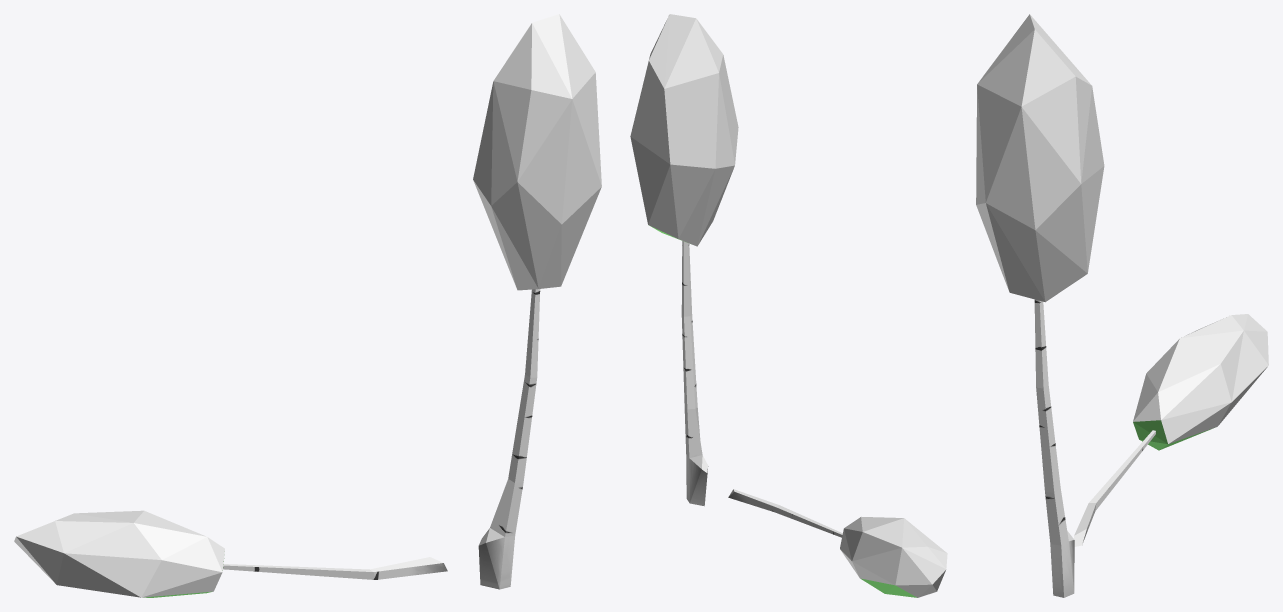
Rendered from Birch_Tree_crk_m_Snow_05_LOD.fbx.
The picture shows the model from 3 angles, left to right: view 1: azimuth 30°, elevation 25°; view 2: azimuth 150°, elevation 25°; view 3: azimuth 270°, elevation 25°; orthographic projection. The views are drawn at different scales.
Parts seen in each view (by area): view 1: Birch_Tree_crk_m_Snow_05_LOD0; view 2: Birch_Tree_crk_m_Snow_05_LOD0; view 3: Birch_Tree_crk_m_Snow_05_LOD0.
Part boxes in pixels (bbox=[...]): Birch_Tree_crk_m_Snow_05_LOD0: bbox=[14, 14, 601, 597]; Birch_Tree_crk_m_Snow_05_LOD0: bbox=[630, 14, 947, 597]; Birch_Tree_crk_m_Snow_05_LOD0: bbox=[976, 14, 1268, 597].
Size of what is drawn, in the model's own units: 660 by 756 by 342.
